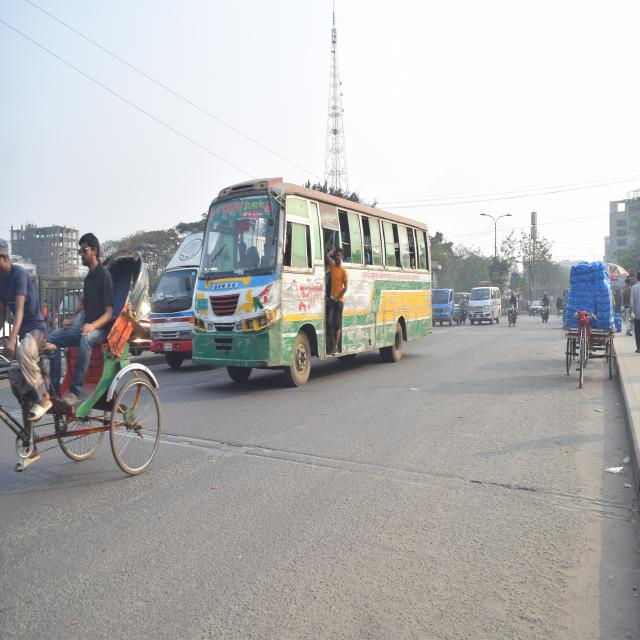bus: (188, 175, 434, 392)
car: (526, 298, 540, 318)
microbus: (468, 282, 501, 328)
motorbike: (503, 296, 523, 338), (539, 296, 551, 323)
pickup-van: (139, 228, 199, 382), (433, 283, 463, 332)
